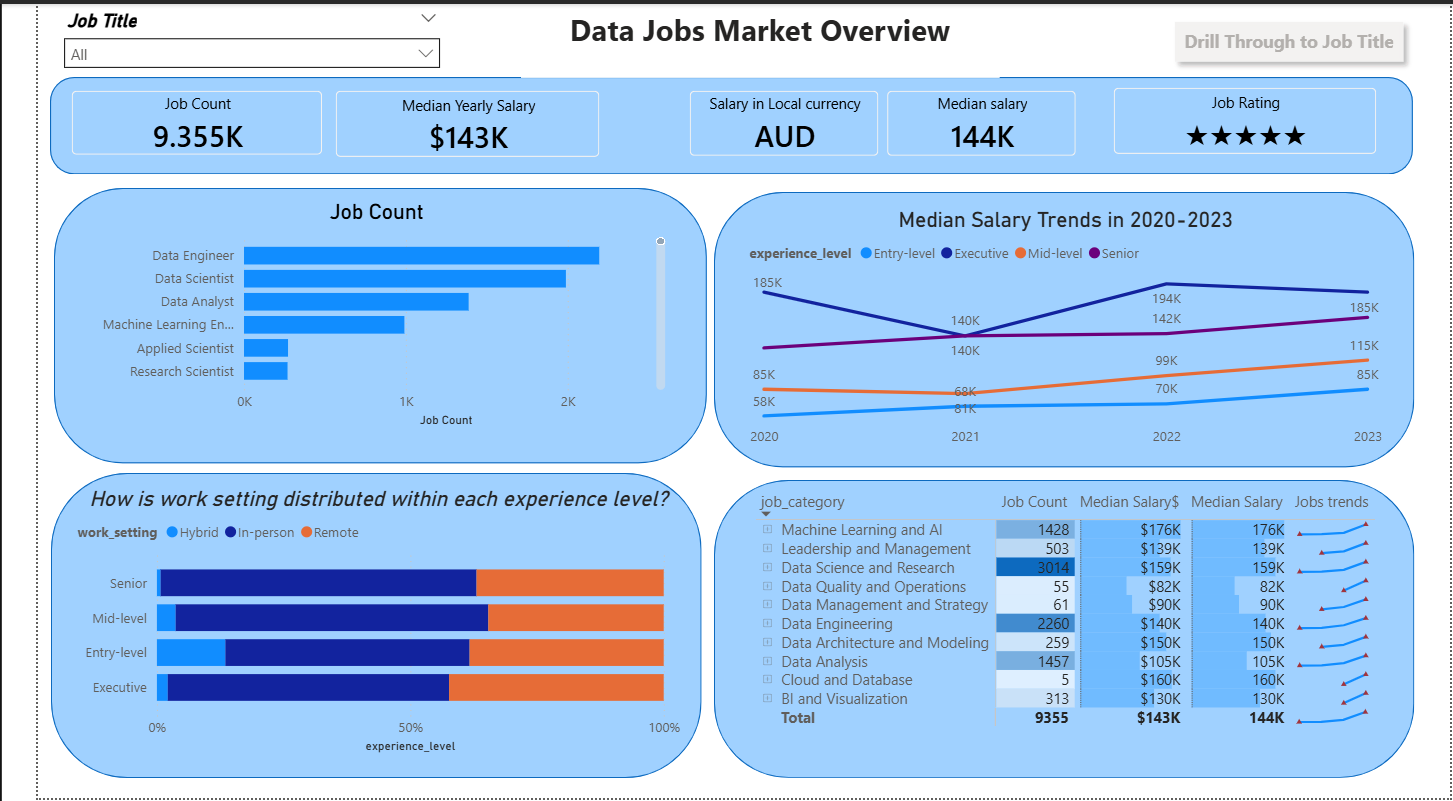

This screenshot's page, from the dashboard's own definition file:
{"tool":"powerbi","page":{"name":"Data job dashboard","canvas":[1280,720],"ordinal":0},"visuals":[{"type":"group","id":"g1","title":"background","box":[11,66.6,1237.7,635.9],"z":0},{"type":"shape","box":[14.8,167.5,592.1,249.8],"z":0,"group":"g1"},{"type":"textbox","box":[438.1,0,433.8,66.7],"z":1000},{"type":"shape","box":[11.8,425.9,589.9,276.7],"z":1000,"group":"g1"},{"type":"cardVisual","fields":{"Data":["Median(jobs_in_data.salary_in_usd)"]},"box":[253,61.4,273.4,94.7],"z":2000},{"type":"shape","box":[612.8,171,635.2,249.8],"z":2000,"group":"g1"},{"type":"cardVisual","fields":{"Data":["Min(jobs_in_data.salary_currency)","Median(jobs_in_data.salary)"]},"box":[573.8,61.4,384.3,93.7],"z":3000},{"type":"shape","box":[613.5,432.3,635.2,270.2],"z":3000,"group":"g1"},{"type":"cardVisual","fields":{"Data":["jobs_in_data.Sum of salary_in_usd star rating"]},"box":[958.1,59.2,272.4,94.7],"z":4000},{"type":"shape","box":[11,66.6,1235.9,88.3],"z":4000,"group":"g1"},{"type":"cardVisual","fields":{"Data":["CountNonNull(jobs_in_data.job_title)"]},"box":[14,61.4,261.6,92.6],"z":5000},{"type":"barChart","title":"Job Count","fields":{"Category":["jobs_in_data.job_title"],"Y":["CountNonNull(jobs_in_data.job_title)"]},"box":[40.9,176.6,532.9,211],"z":6000},{"type":"hundredPercentStackedBarChart","title":"How is work setting distributed within each experience level?","fields":{"Y":["CountNonNull(jobs_in_data.experience_level)"],"Category":["jobs_in_data.experience_level"],"Series":["jobs_in_data.work_setting"]},"box":[31.2,437.1,556.6,246.5],"z":7000},{"type":"lineChart","title":"Median Salary Trends in 2020-2023","fields":{"Category":["jobs_in_data.work_year"],"Y":["Median(jobs_in_data.salary)"],"Series":["jobs_in_data.experience_level"]},"box":[640.5,184.1,583.5,226.1],"z":8000},{"type":"pivotTable","fields":{"Rows":["jobs_in_data.job_category","jobs_in_data.job_title"],"Values":["CountNonNull(jobs_in_data.job_title)","Median(jobs_in_data.salary_in_usd)","Median(jobs_in_data.salary)","SparklineData(CountNonNull(jobs_in_data.job_title)_[jobs_in_data.work_year])"]},"box":[645.9,437.1,578.1,242.2],"z":9000},{"type":"slicer","fields":{"Values":["jobs_in_data.job_title"]},"box":[14,0,360.6,60.3],"z":9001},{"type":"actionButton","box":[1021.6,7.5,225,53.8],"z":9002}]}

Visuals, with their boxes in screenshot pixels (x1, y1, x2, y2), scaled from the page's 1280x720 canvas onto the 1453x801 screenshot:
"background" group: {"left": 12, "top": 74, "right": 1417, "bottom": 782}
shape: {"left": 17, "top": 186, "right": 689, "bottom": 464}
textbox: {"left": 497, "top": 0, "right": 990, "bottom": 74}
shape: {"left": 13, "top": 474, "right": 683, "bottom": 782}
cardVisual - Median(jobs_in_data.salary_in_usd): {"left": 287, "top": 68, "right": 598, "bottom": 174}
shape: {"left": 696, "top": 190, "right": 1417, "bottom": 468}
cardVisual - Min(jobs_in_data.salary_currency) x Median(jobs_in_data.salary): {"left": 651, "top": 68, "right": 1088, "bottom": 173}
shape: {"left": 696, "top": 481, "right": 1417, "bottom": 782}
cardVisual - jobs_in_data.Sum of salary_in_usd star rating: {"left": 1088, "top": 66, "right": 1397, "bottom": 171}
shape: {"left": 12, "top": 74, "right": 1415, "bottom": 172}
cardVisual - CountNonNull(jobs_in_data.job_title): {"left": 16, "top": 68, "right": 313, "bottom": 171}
"Job Count" barChart: {"left": 46, "top": 196, "right": 651, "bottom": 431}
"How is work setting distributed within each experience level?" hundredPercentStackedBarChart: {"left": 35, "top": 486, "right": 667, "bottom": 761}
"Median Salary Trends in 2020-2023" lineChart: {"left": 727, "top": 205, "right": 1389, "bottom": 456}
pivotTable - jobs_in_data.job_category x jobs_in_data.job_title: {"left": 733, "top": 486, "right": 1389, "bottom": 756}
slicer - jobs_in_data.job_title: {"left": 16, "top": 0, "right": 425, "bottom": 67}
actionButton: {"left": 1160, "top": 8, "right": 1415, "bottom": 68}
